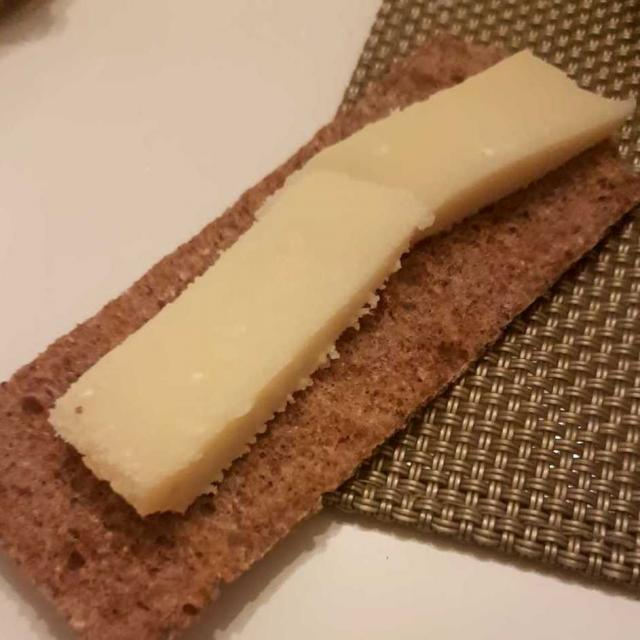crisp-bread-wasa: (14, 50, 621, 627)
hard-cheese: (46, 45, 618, 517)
